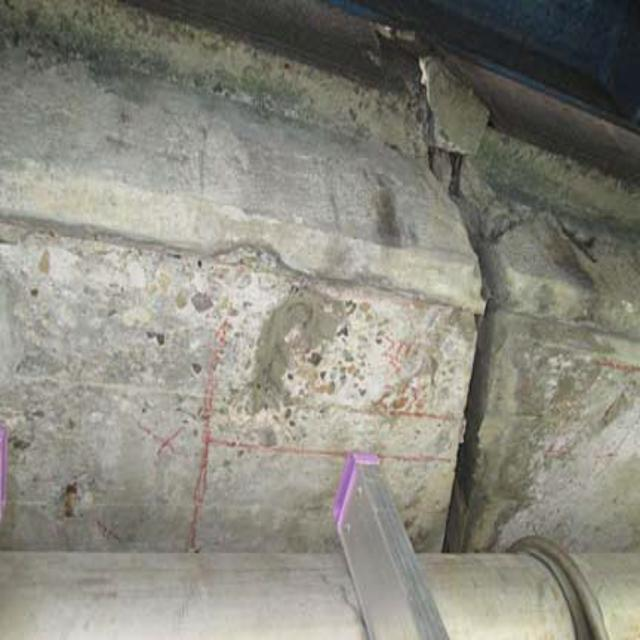spalling: (36, 297, 440, 476), (369, 36, 584, 283)
